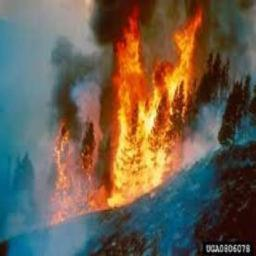Low smoke: (0, 0, 255, 255)
Small fire: (26, 0, 243, 232)
